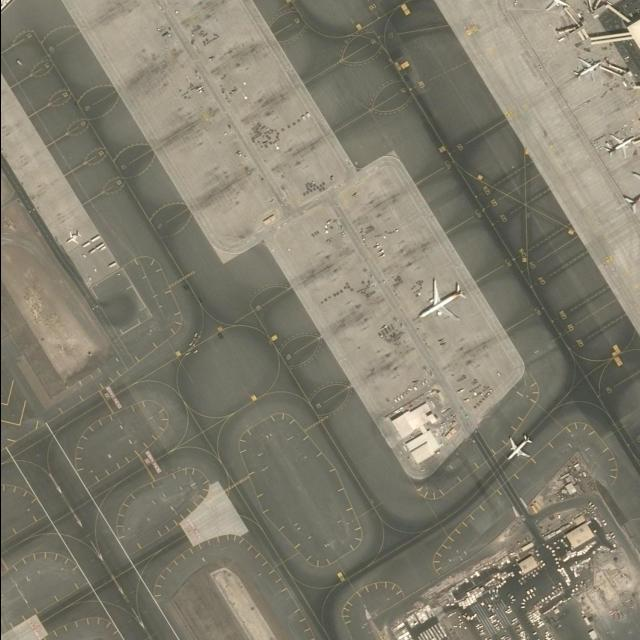Aircraft: (413, 279, 464, 321), (616, 170, 640, 214), (601, 128, 633, 159), (571, 54, 602, 80), (501, 434, 531, 460), (538, 0, 566, 10), (65, 230, 81, 244)
